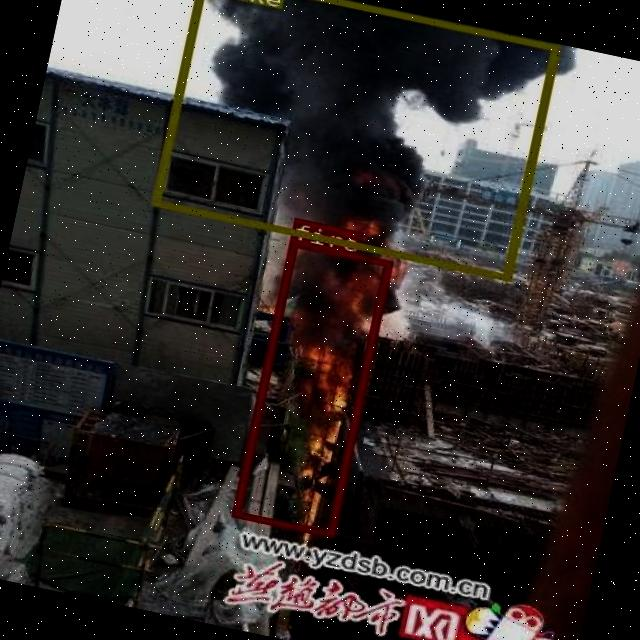fire: (231, 238, 390, 536)
smoke: (149, 0, 558, 280)
